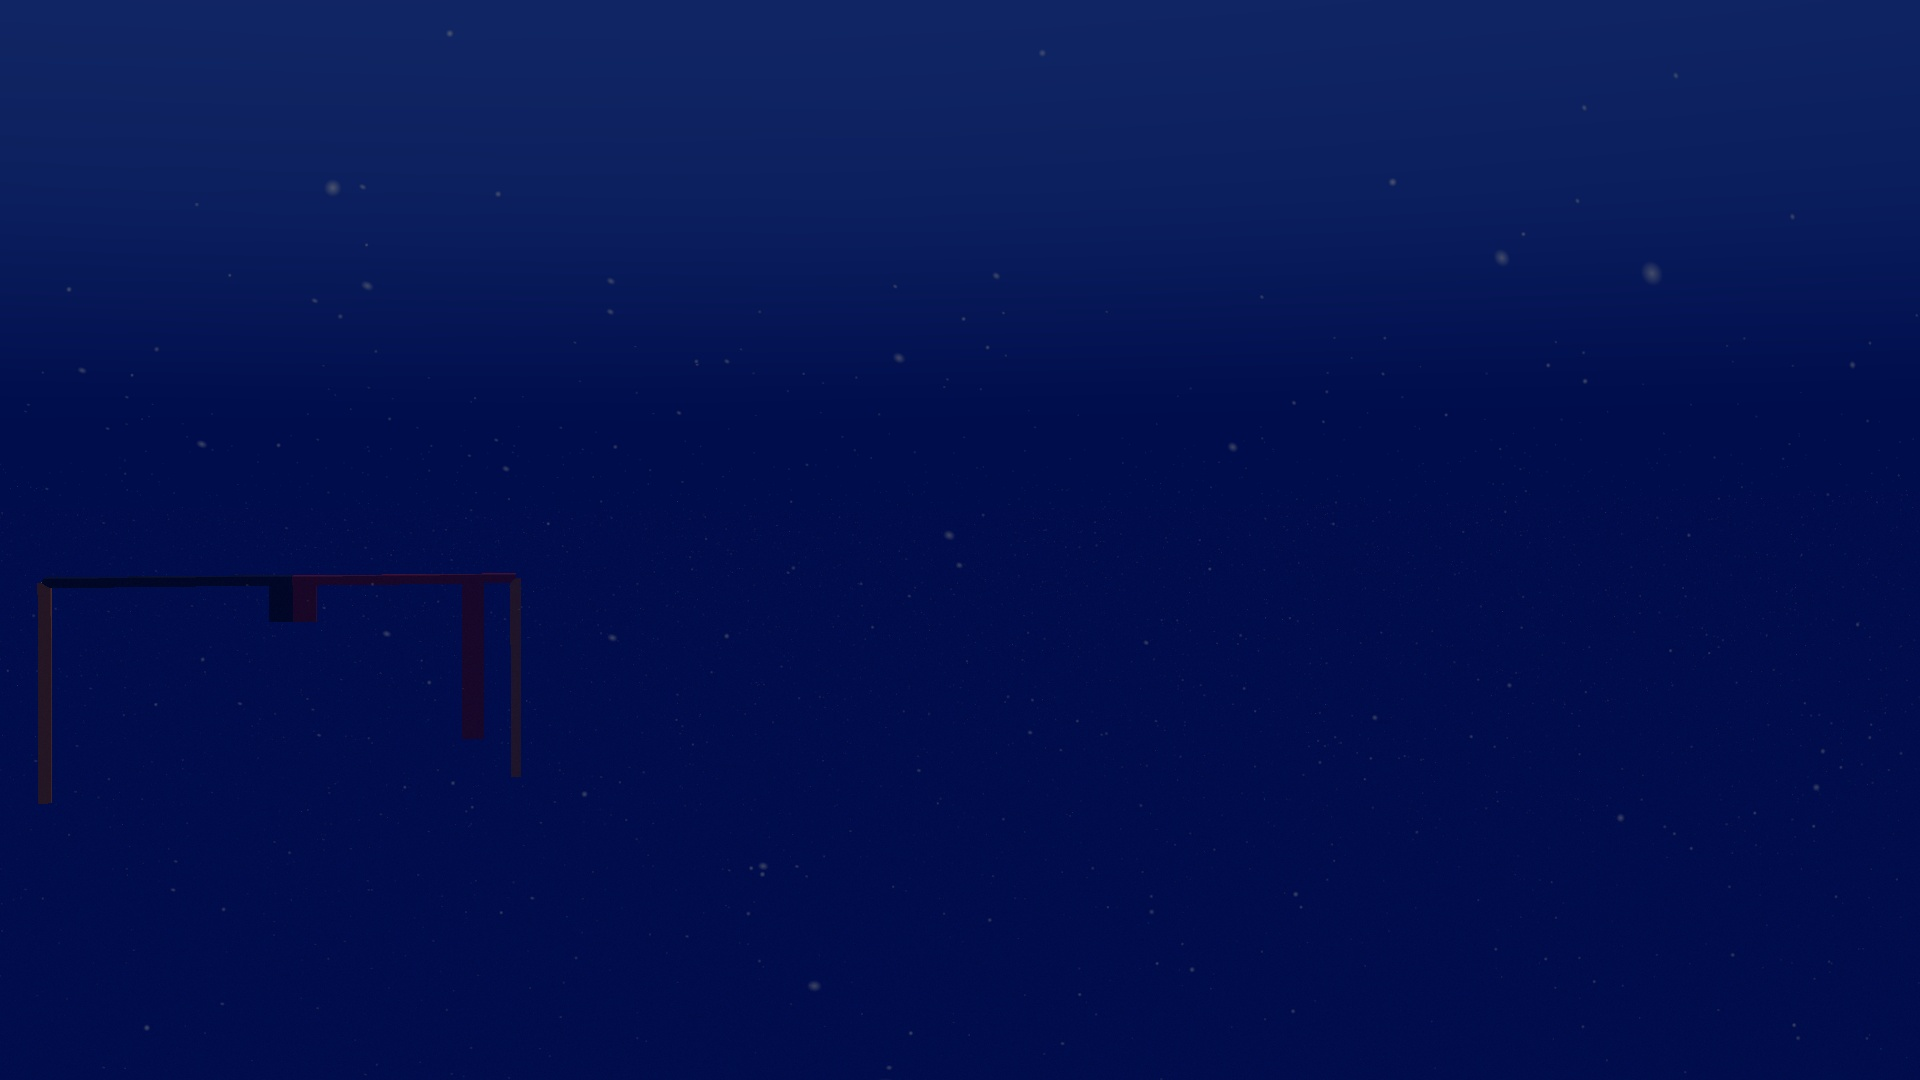Gate: (29, 566, 534, 811)
